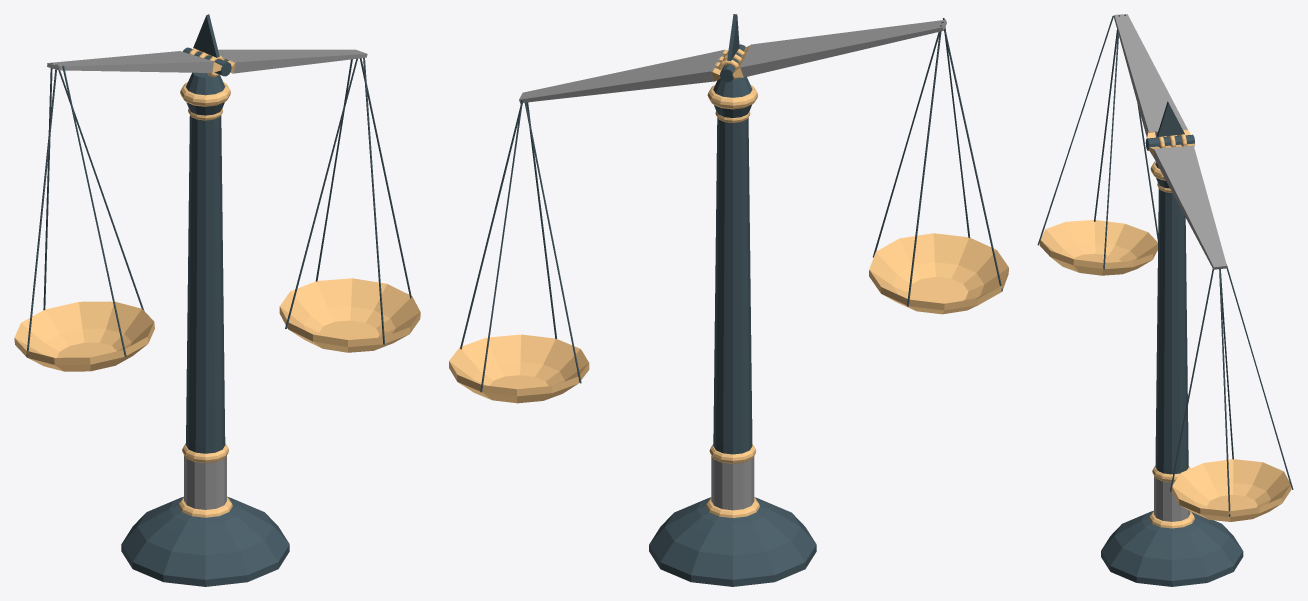
File: Waage 1.fbx
3 views of the same model, side by side, from view 1: azimuth 30°, elevation 25°; view 2: azimuth 150°, elevation 25°; view 3: azimuth 270°, elevation 25° (orthographic). The views are drawn at different scales.
Parts seen in each view (by area): view 1: mesh_1645211238, mesh_1509641040, mesh_2063865923, mesh_2075815074, mesh_131527867, mesh_1640879320, mesh_1440307257, mesh_1512835569, mesh_717037476, mesh_1647324675, mesh_904988053, mesh_1700813215 (+4 smaller); view 2: mesh_1645211238, mesh_1509641040, mesh_2075815074, mesh_2063865923, mesh_131527867, mesh_1640879320, mesh_1440307257, mesh_1783840908; view 3: mesh_1645211238, mesh_1509641040, mesh_2063865923, mesh_2075815074, mesh_1640879320, mesh_131527867, mesh_1440307257, mesh_995072892, mesh_1435350237, mesh_2011199820, mesh_717037476, mesh_1647324675 (+5 smaller).
Boxes of the visible parts, bbox=[...] form: mesh_1645211238: bbox=[186, 72, 225, 453]; mesh_1509641040: bbox=[121, 496, 289, 586]; mesh_2063865923: bbox=[279, 278, 420, 352]; mesh_2075815074: bbox=[14, 301, 154, 371]; mesh_131527867: bbox=[47, 51, 214, 72]; mesh_1640879320: bbox=[218, 49, 367, 73]; mesh_1440307257: bbox=[184, 455, 226, 509]; mesh_1512835569: bbox=[26, 64, 57, 357]; mesh_717037476: bbox=[363, 58, 384, 344]; mesh_1647324675: bbox=[62, 65, 126, 356]; mesh_904988053: bbox=[285, 58, 357, 328]; mesh_1700813215: bbox=[180, 82, 230, 106]; mesh_1645211238: bbox=[713, 77, 752, 454]; mesh_1509641040: bbox=[649, 497, 816, 586]; mesh_2075815074: bbox=[869, 233, 1008, 314]; mesh_2063865923: bbox=[449, 334, 589, 403]; mesh_131527867: bbox=[739, 19, 946, 77]; mesh_1640879320: bbox=[519, 49, 724, 103]; mesh_1440307257: bbox=[711, 456, 754, 510]; mesh_1783840908: bbox=[907, 25, 941, 306]; mesh_1645211238: bbox=[1155, 163, 1188, 474]; mesh_1509641040: bbox=[1101, 510, 1243, 586]; mesh_2063865923: bbox=[1172, 459, 1291, 521]; mesh_2075815074: bbox=[1039, 220, 1157, 275]; mesh_1640879320: bbox=[1153, 145, 1226, 269]; mesh_131527867: bbox=[1114, 14, 1187, 137]; mesh_1440307257: bbox=[1154, 476, 1190, 521]; mesh_995072892: bbox=[1219, 269, 1230, 516]; mesh_1435350237: bbox=[1157, 101, 1184, 137]; mesh_2011199820: bbox=[1103, 15, 1120, 269]; mesh_717037476: bbox=[1170, 269, 1213, 491]; mesh_1647324675: bbox=[1037, 15, 1113, 245].
Bounding box in the file's own units: 138 × 156 × 77.37.
